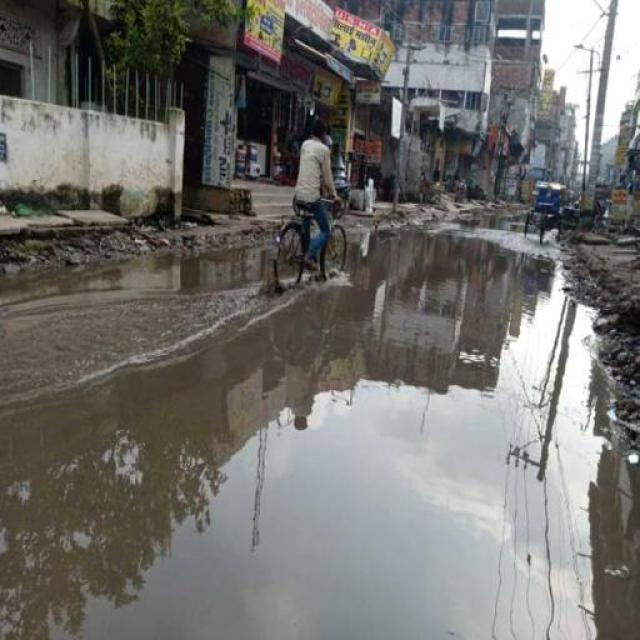puddle: (7, 412, 640, 640), (346, 230, 570, 558), (241, 308, 388, 429), (97, 250, 257, 289)
